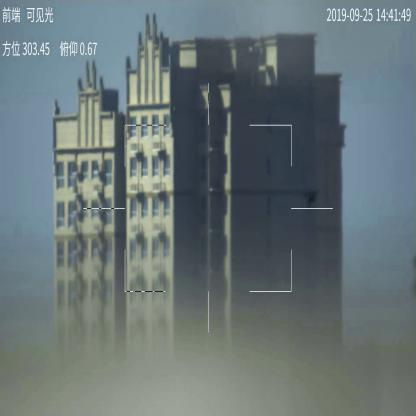uav: (304, 188, 320, 208)
